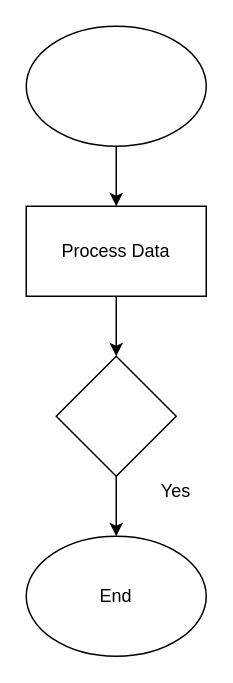
Image size: 233x683. Some labels were removed from this diagram. The centre of each missing label's shape, as x and y in pixels:
"Decision" goes at point (115, 415).
"Start" goes at point (115, 85).
